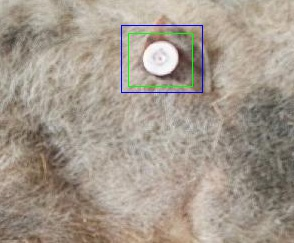text: (128, 33, 192, 86)
